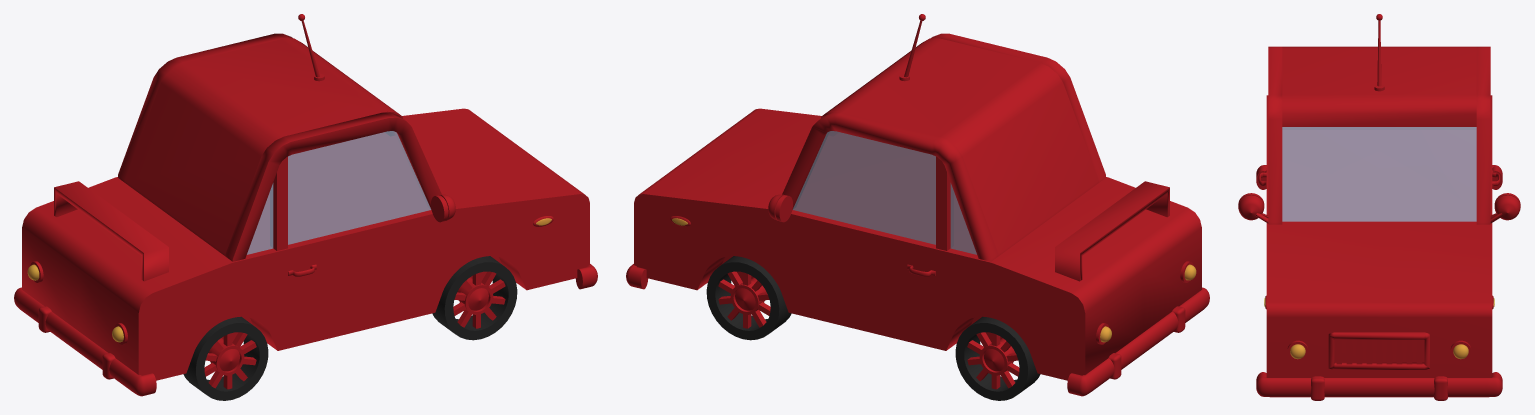
Rendered from sports.glb.
3 renders of one model, left to right at view 1: azimuth 30°, elevation 25°; view 2: azimuth 150°, elevation 25°; view 3: azimuth 270°, elevation 25°, orthographic. The views are drawn at different scales.
Parts seen in each view (by area): view 1: TwoSeater, Roof, Glass, Frame (×3), Tire (×2), Blocky, Bumper, Rim (×2), Cylindrical Lathe; view 2: TwoSeater, Roof, Glass, Frame (×3), Tire (×2), Blocky, Bumper, Rim (×2), Cylindrical Lathe; view 3: TwoSeater, Glass, Roof, Frame (×3), Bumper (×2), Cylindrical Lathe (×2), Curvy (×2), Detail (×2).
Part boxes in pixels (bbox=[...]): TwoSeater: bbox=[22, 108, 589, 380]; Roof: bbox=[125, 38, 402, 256]; Glass: bbox=[247, 131, 431, 254]; Frame (×3): bbox=[118, 33, 441, 261]; Tire (×2): bbox=[183, 256, 517, 400]; Blocky: bbox=[54, 181, 168, 281]; Bumper: bbox=[14, 287, 156, 396]; Rim (×2): bbox=[210, 281, 493, 375]; Cylindrical Lathe: bbox=[431, 194, 455, 222]; TwoSeater: bbox=[634, 108, 1201, 380]; Roof: bbox=[821, 38, 1098, 256]; Glass: bbox=[792, 131, 976, 254]; Frame (×3): bbox=[782, 33, 1105, 261]; Tire (×2): bbox=[706, 256, 1040, 400]; Blocky: bbox=[1055, 181, 1169, 281]; Bumper: bbox=[1067, 287, 1209, 396]; Rim (×2): bbox=[730, 281, 1013, 375]; Cylindrical Lathe: bbox=[768, 194, 792, 222]; TwoSeater: bbox=[1266, 95, 1492, 377]; Glass: bbox=[1282, 127, 1476, 221]; Roof: bbox=[1282, 46, 1476, 129]; Frame (×3): bbox=[1268, 46, 1490, 369]; Bumper (×2): bbox=[1256, 165, 1502, 397]; Cylindrical Lathe (×2): bbox=[1238, 193, 1520, 220]; Curvy (×2): bbox=[1287, 340, 1471, 360]; Detail (×2): bbox=[1311, 376, 1447, 400].
Bounding box in the file's own units: 3.77 × 2.39 × 2.03.
